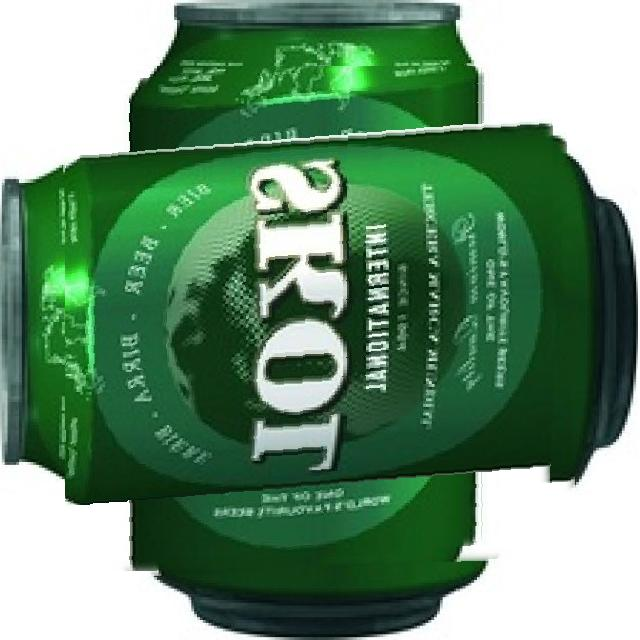recyclable: (65, 66, 572, 574)
